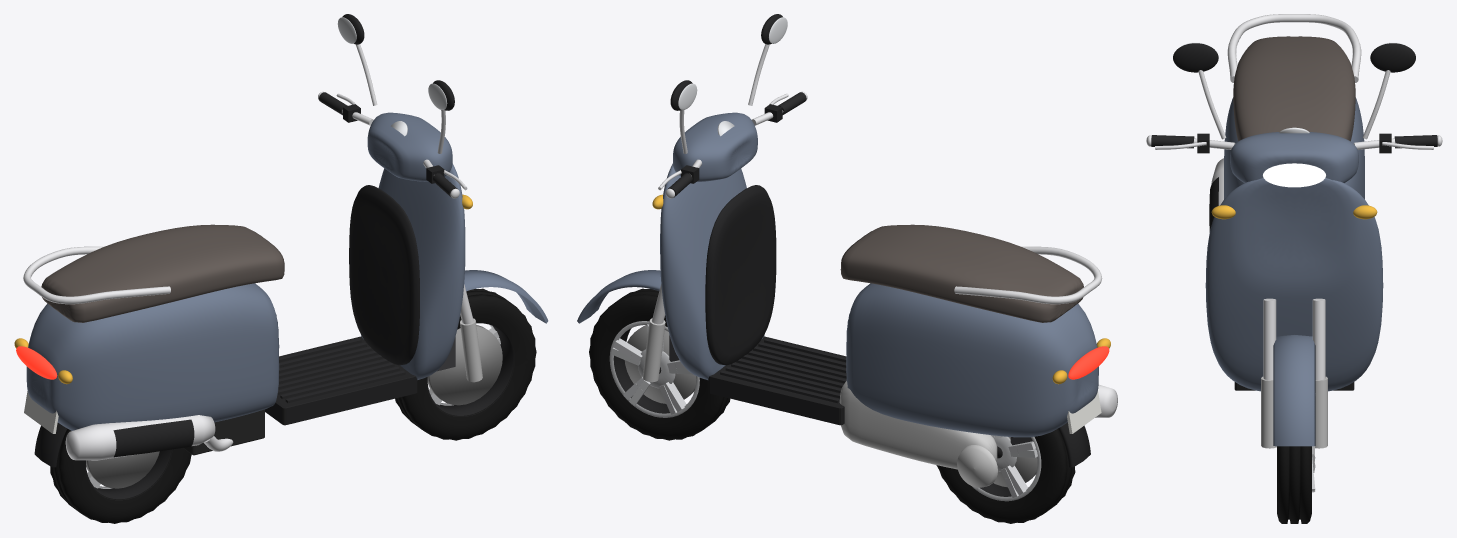
Rendered from karthik_scooter.glb.
3 views of the same model, side by side, from view 1: azimuth 30°, elevation 25°; view 2: azimuth 150°, elevation 25°; view 3: azimuth 270°, elevation 25° (orthographic). The views are drawn at different scales.
Visible parts, largest first — view 1: Body, Seat, InnerShield, Apron, Tyre, Floor, Tyre.001, Cowl, BrakeDisc, Muffler, HeatShield, GrabRail (+11 smaller); view 2: Body, Seat, InnerShield, Apron, Tyre, DriveCase, Tyre.001, Floor, Cowl, GrabRail, BrakeDisc, CaseCover (+8 smaller); view 3: Apron, Seat, Cowl, FrontGuard, Tyre, GrabRail, Body, Headlamp, Mirror, Mirror.001, Stanchion, Stanchion.001 (+6 smaller).
Part boxes in pixels (x1,y1,x2,y2): Body: (26,283,279,430); Seat: (41,224,284,322); InnerShield: (349,185,419,365); Apron: (361,164,465,379); Tyre: (395,288,536,440); Floor: (265,336,417,425); Tyre.001: (50,428,191,523); Cowl: (367,112,452,181); BrakeDisc: (427,325,502,405); Muffler: (65,415,215,460); HeatShield: (113,419,194,457); GrabRail: (23,246,170,304); Body: (846,283,1098,437); Seat: (840,224,1083,322); InnerShield: (705,185,776,365); Apron: (660,163,764,379); Tyre: (589,288,730,440); DriveCase: (839,381,997,469); Tyre.001: (936,428,1075,523); Floor: (708,336,846,425); Cowl: (673,112,757,181); GrabRail: (954,246,1102,304); BrakeDisc: (624,325,696,403); CaseCover: (957,445,997,487); Apron: (1205,178,1383,391); Seat: (1233,36,1355,141); Cowl: (1230,132,1358,182); FrontGuard: (1273,335,1315,446); Tyre: (1277,446,1311,523); GrabRail: (1227,14,1361,82); Body: (1224,97,1364,198); Headlamp: (1263,163,1325,187); Mirror: (1370,43,1415,72); Mirror.001: (1173,43,1218,72); Stanchion: (1312,298,1325,380); Stanchion.001: (1263,298,1276,380).
Size of the model in its own units: 1.83 by 1.37 by 0.84.
